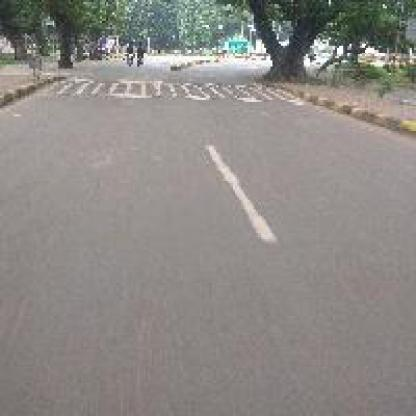Speed Bump: (35, 77, 304, 104)
